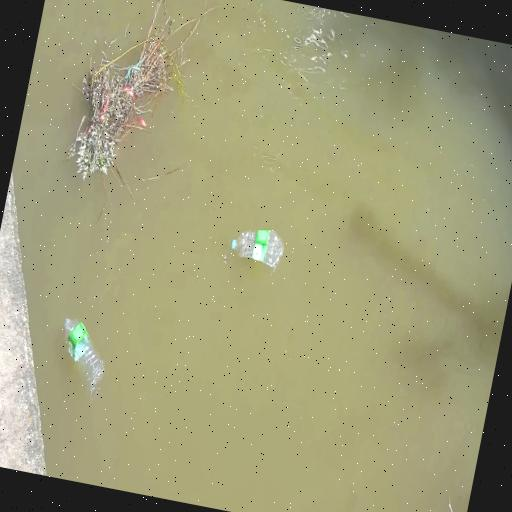plastic: (64, 319, 103, 393), (231, 229, 282, 268), (231, 239, 236, 250)
twig: (67, 0, 219, 198)
